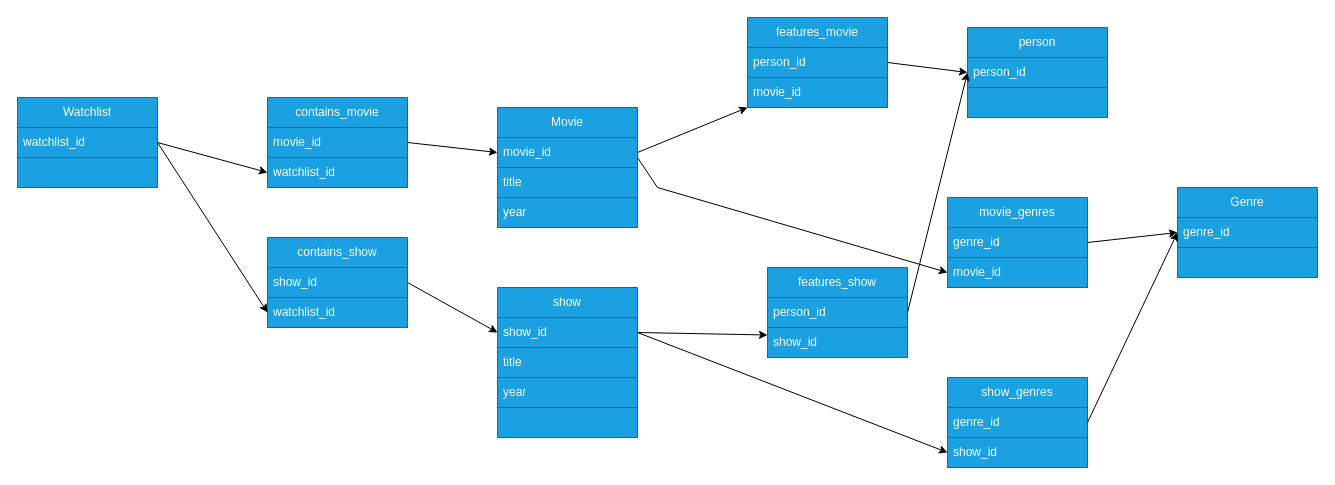
Image size: 1335x485. Some labels were removed from this diagram. The centre of each missing label's shape, as x and y in pixels:
"first_air_date" goes at pixel 567 422.
"fullname" goes at pixel 1037 102.
"name" goes at pixel 1247 262.
"user_id" goes at pixel 87 172.
